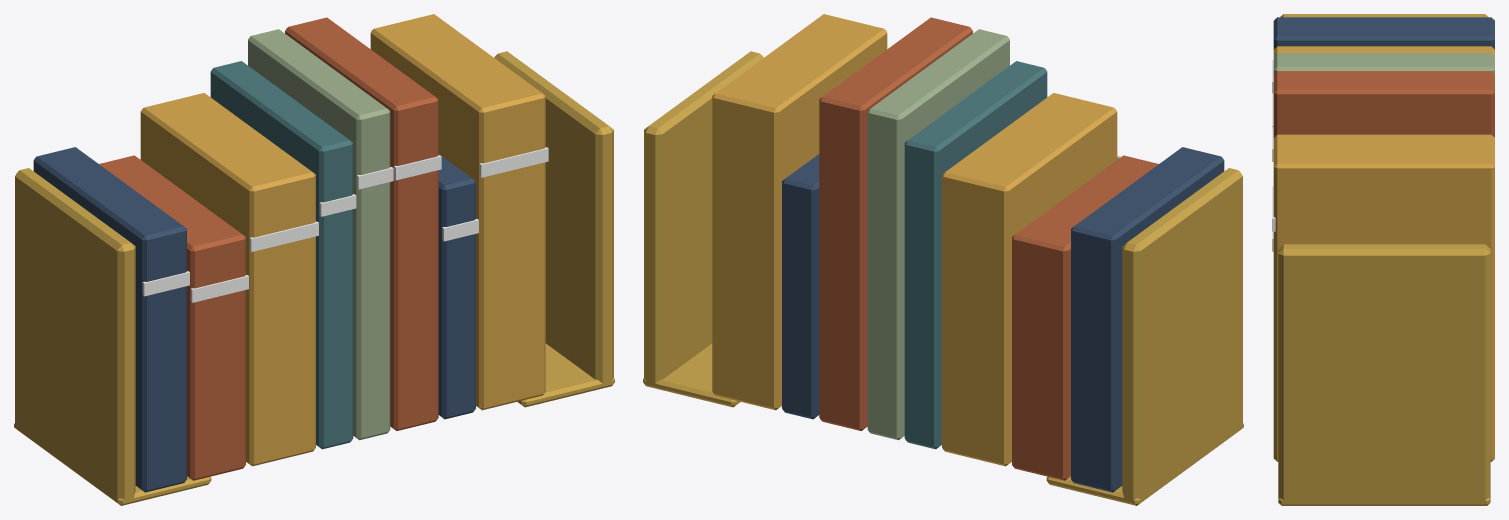
Rendered from booksUpright.glb.
3 views of the same model, side by side, from view 1: azimuth 30°, elevation 25°; view 2: azimuth 150°, elevation 25°; view 3: azimuth 270°, elevation 25° (orthographic).
Visible parts, largest first — view 1: booksUpright; view 2: booksUpright; view 3: booksUpright.
Part boxes in pixels (left/top/right/bottom): booksUpright: left=14, top=14, right=614, bottom=505; booksUpright: left=643, top=14, right=1243, bottom=505; booksUpright: left=1272, top=14, right=1494, bottom=505.
Size of the model in its own units: 0.32 by 0.206 by 0.126.
